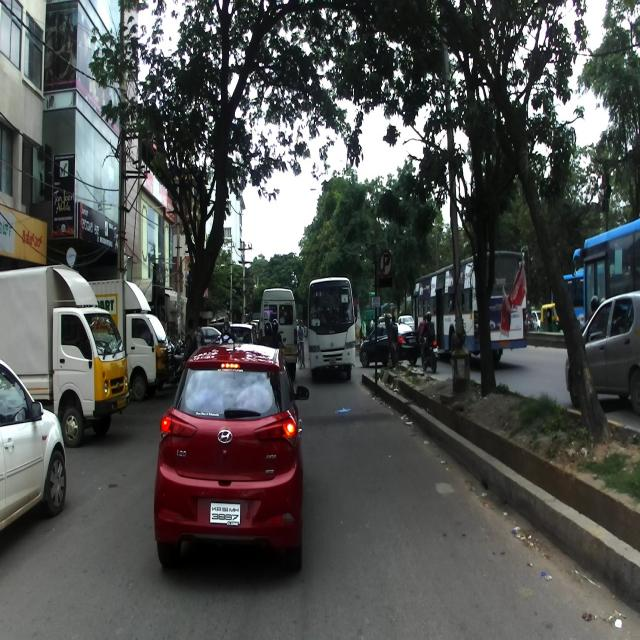bus: (412, 248, 528, 364), (307, 273, 358, 371)
car: (154, 335, 309, 572), (359, 320, 418, 368)
truck: (0, 263, 130, 445)
